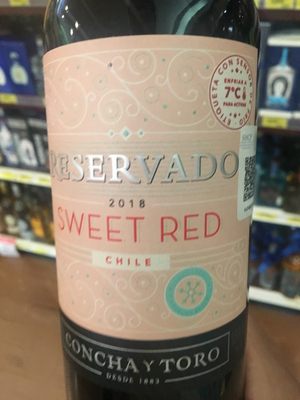reservado sweet red: (38, 3, 273, 400)
